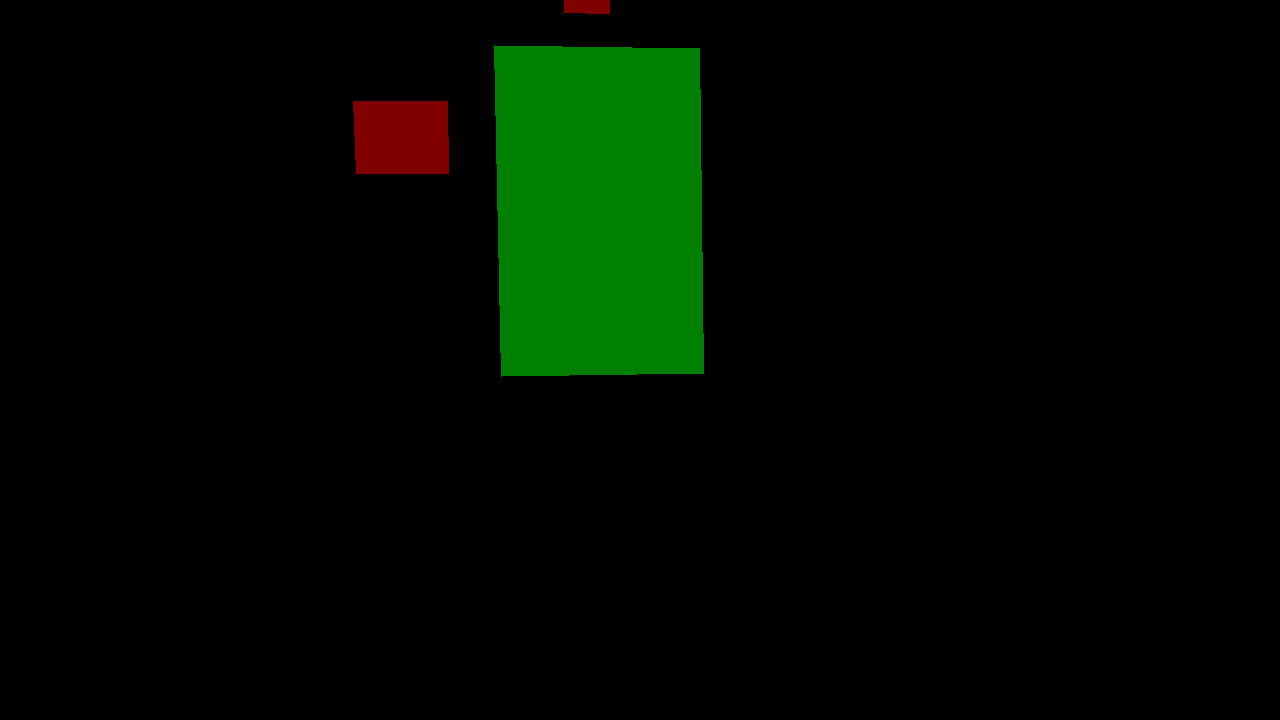door: (494, 45, 703, 376)
sign: (353, 100, 448, 173), (509, 112, 544, 138), (564, 0, 609, 14)
